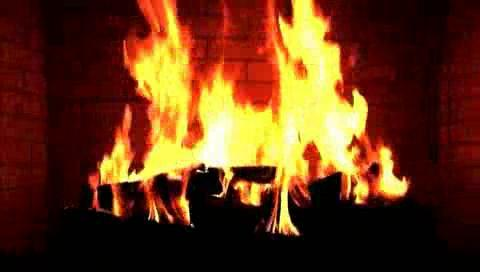fire: (90, 1, 408, 239)
